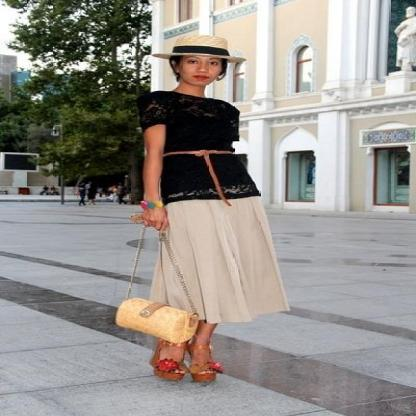bag: (116, 298, 196, 340)
hat: (162, 26, 245, 74)
shirt: (139, 91, 260, 206)
shoe: (150, 358, 222, 385)
skirt: (144, 198, 294, 323)
